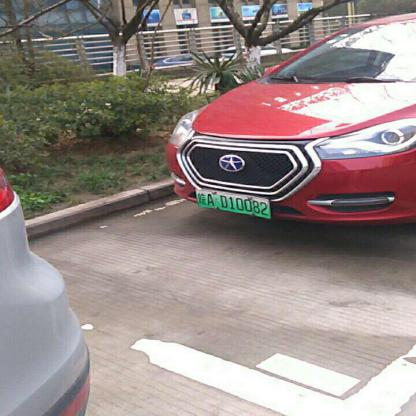lp: (195, 189, 270, 217)
